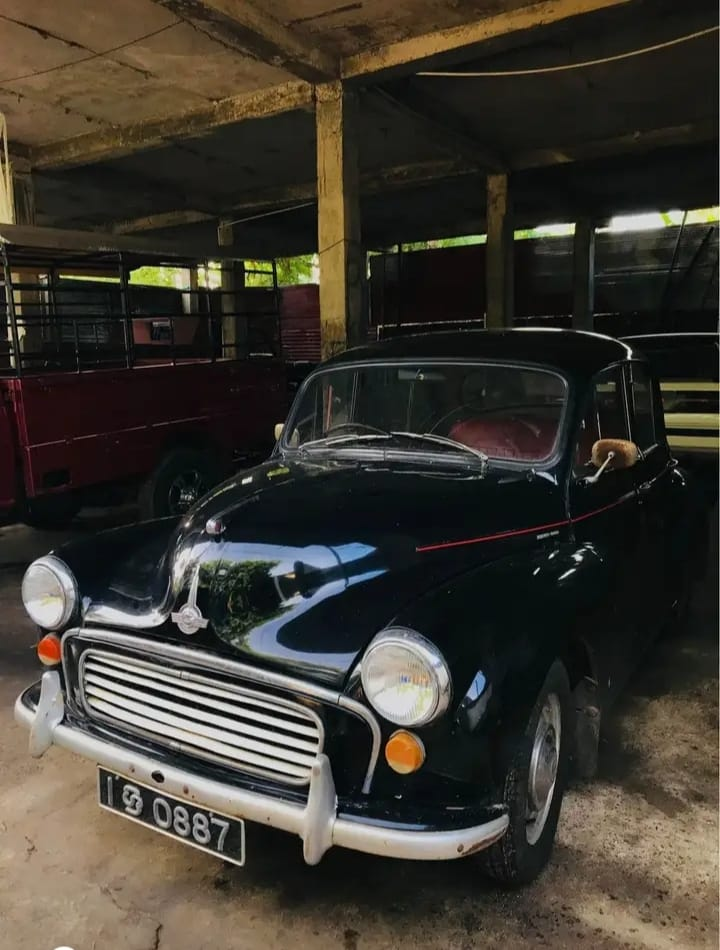number_plate: (94, 771, 245, 874)
